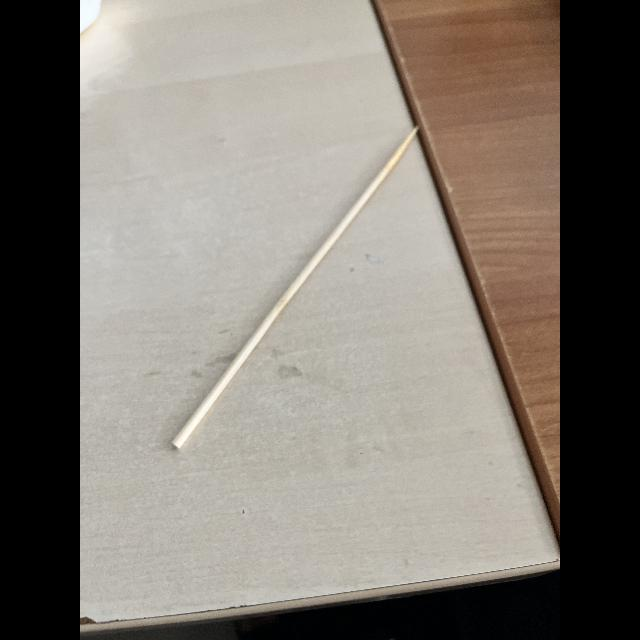stick: (154, 107, 450, 466)
